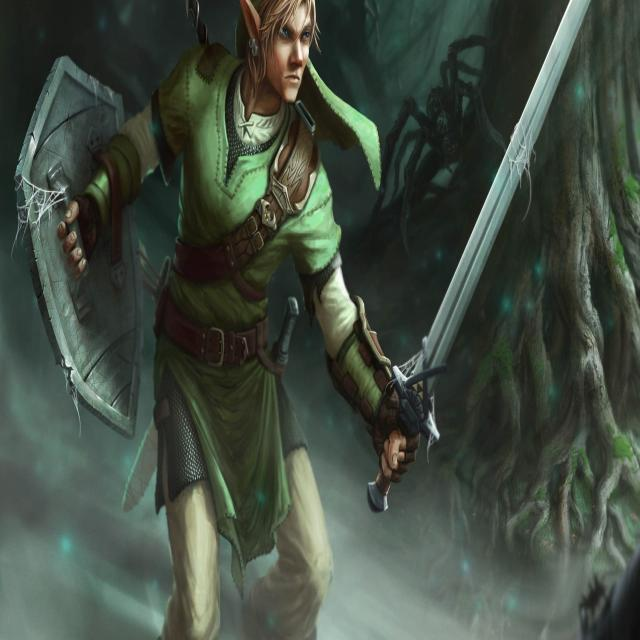shield: (14, 50, 145, 442)
sword: (367, 1, 591, 517)
